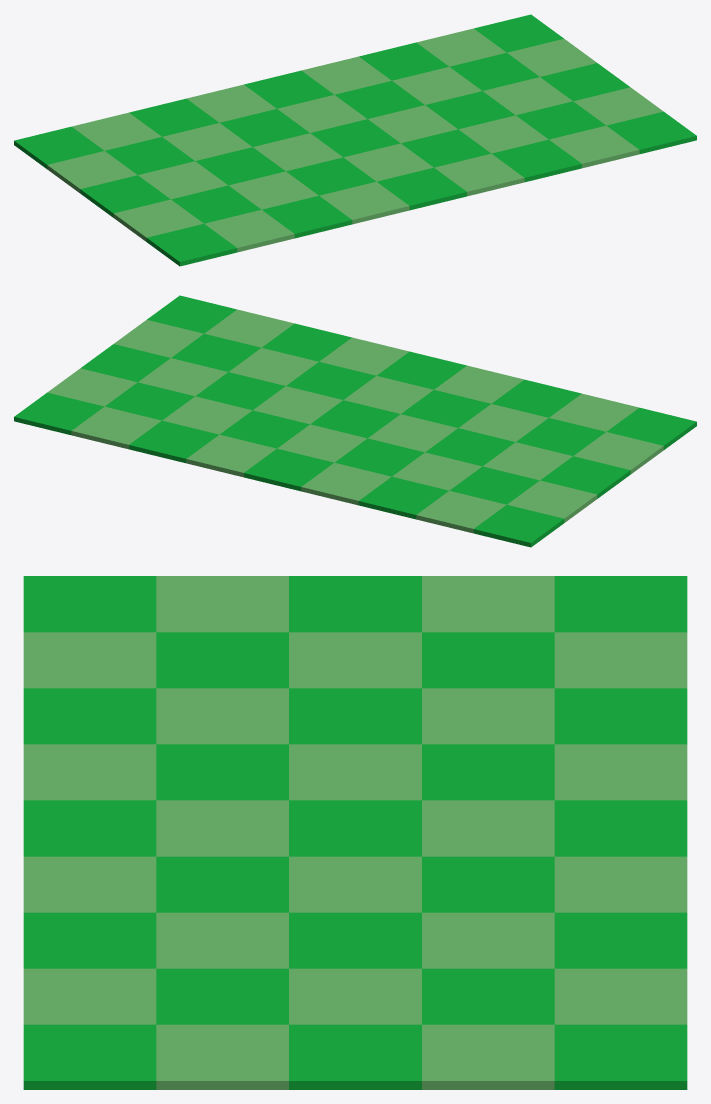
The model's file is Level.fbx.
3 views of the same model, one above another, from view 1: azimuth 30°, elevation 25°; view 2: azimuth 150°, elevation 25°; view 3: azimuth 270°, elevation 25° (orthographic). The views are drawn at different scales.
Visible parts, largest first — view 1: Plane.001; view 2: Plane.001; view 3: Plane.001.
Boxes of the visible parts, <box> form: Plane.001: <box>14,14,696,266</box>; Plane.001: <box>14,295,696,547</box>; Plane.001: <box>23,576,687,1089</box>.
Bounding box in the file's own units: 1800 × 15 × 1000.
